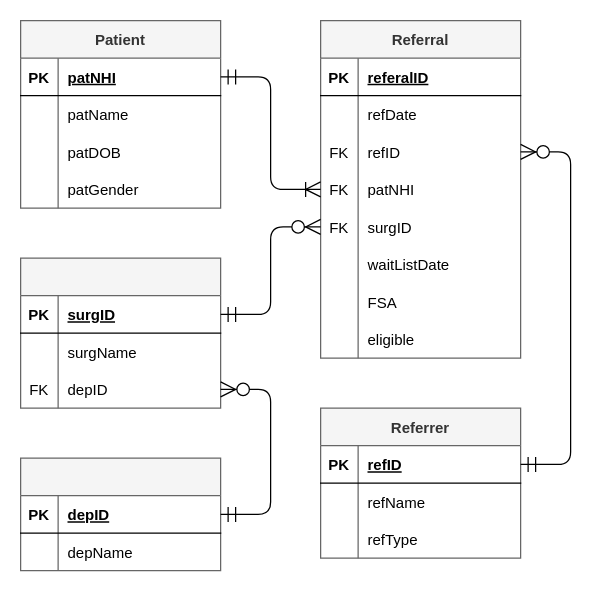
Image size: 591x591. Some labels were removed from this diagram. The shapes that lost their labels are listed below. From the top down, each one's box as (x1, y1, x2, y2) in pixels, then its label:
(19, 257, 221, 408): Surgeon
(19, 457, 221, 571): Department
